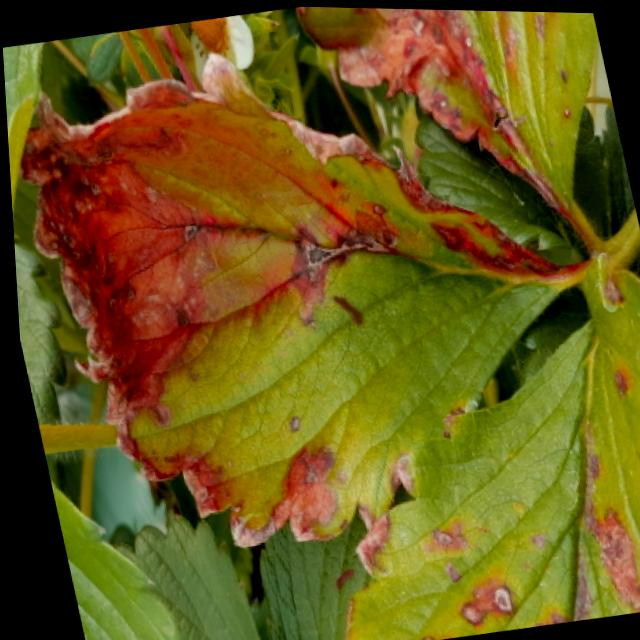Angular Leafspot: (14, 50, 583, 547), (335, 246, 640, 640), (293, 5, 599, 251)
